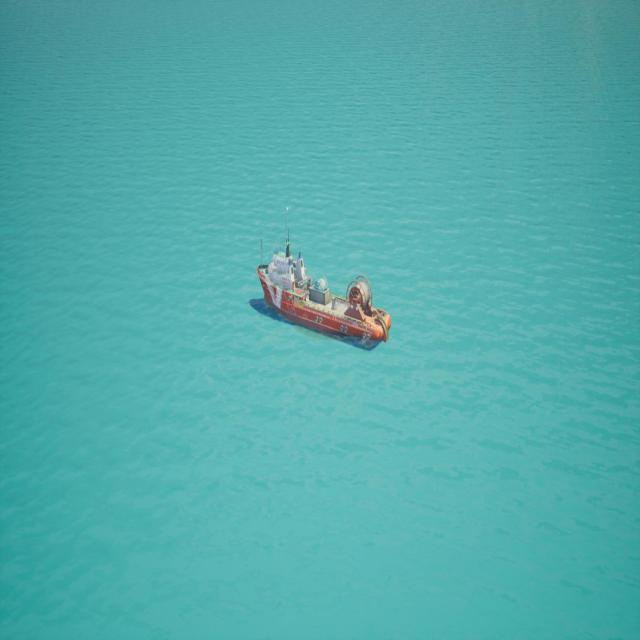tug boat: (252, 210, 390, 354)
